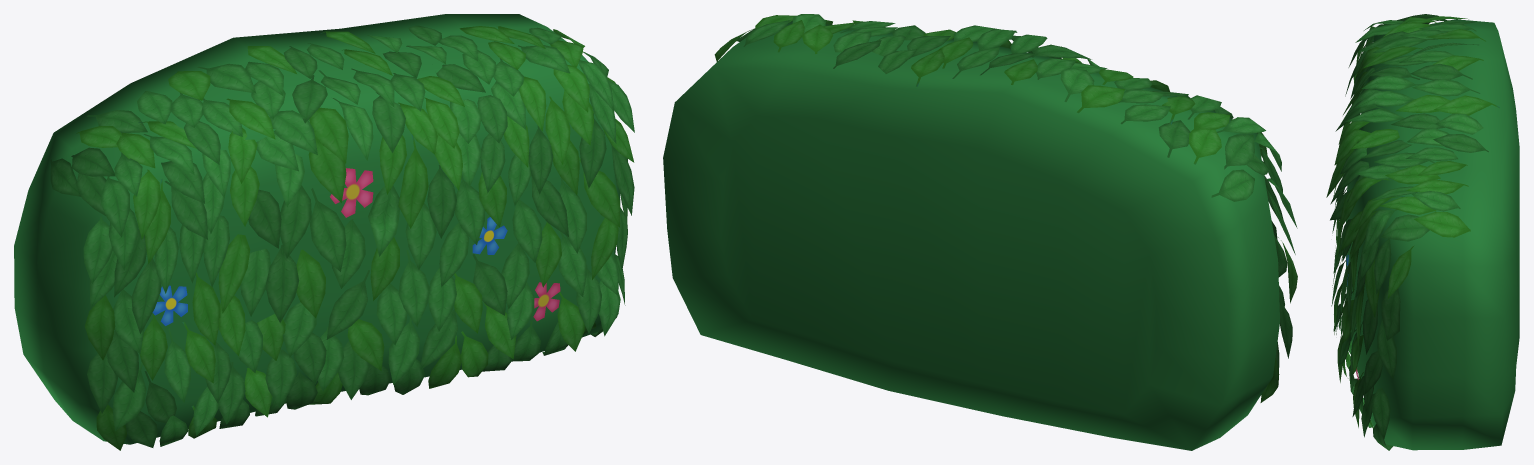
The model's file is ArbustoGrandeFlores.fbx.
3 views of the same model, side by side, from view 1: azimuth 30°, elevation 25°; view 2: azimuth 150°, elevation 25°; view 3: azimuth 270°, elevation 25° (orthographic). The views are drawn at different scales.
Visible parts, largest first — view 1: ArbustoGrandeFlores; view 2: ArbustoGrandeFlores; view 3: ArbustoGrandeFlores.
Boxes of the visible parts, box(x1,y1,x2,y2) form: ArbustoGrandeFlores: box(14, 14, 634, 450); ArbustoGrandeFlores: box(663, 14, 1297, 450); ArbustoGrandeFlores: box(1326, 14, 1519, 450).
Bounding box in the file's own units: 2270 × 1262 × 813.
